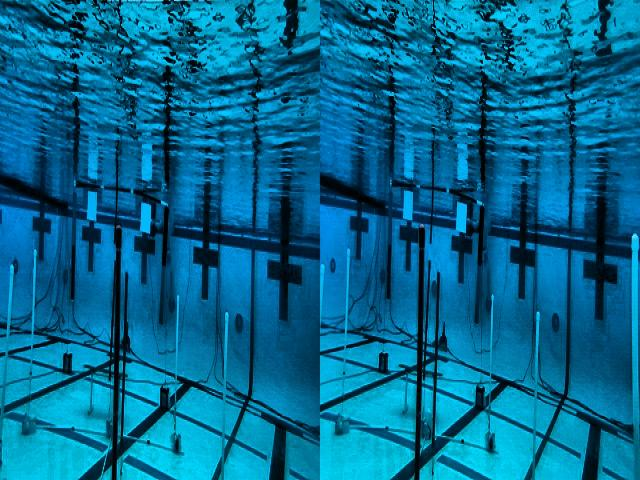gate: (64, 180, 170, 326), (386, 186, 485, 328)
path_marker: (398, 364, 443, 440), (84, 364, 128, 425)
